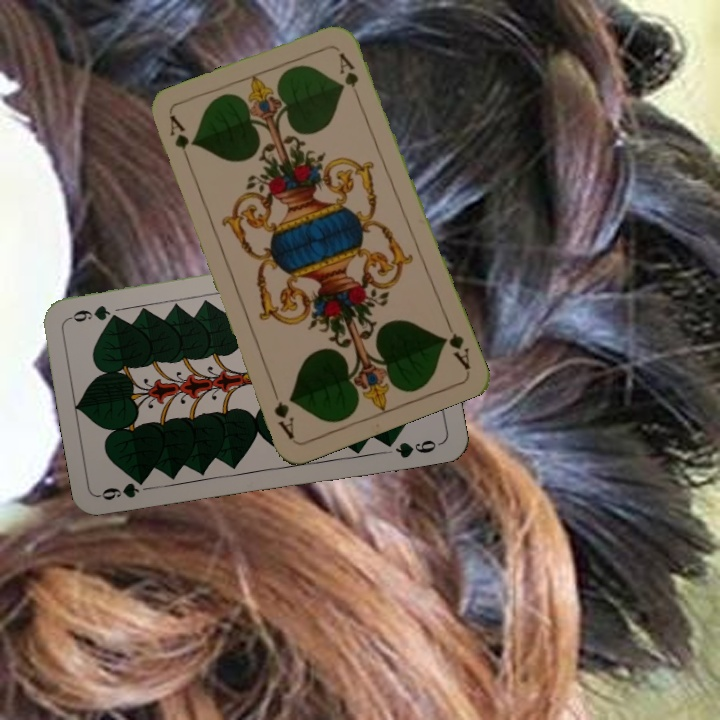G9: (98, 481, 142, 503)
GA: (438, 316, 473, 372), (165, 111, 194, 169)
